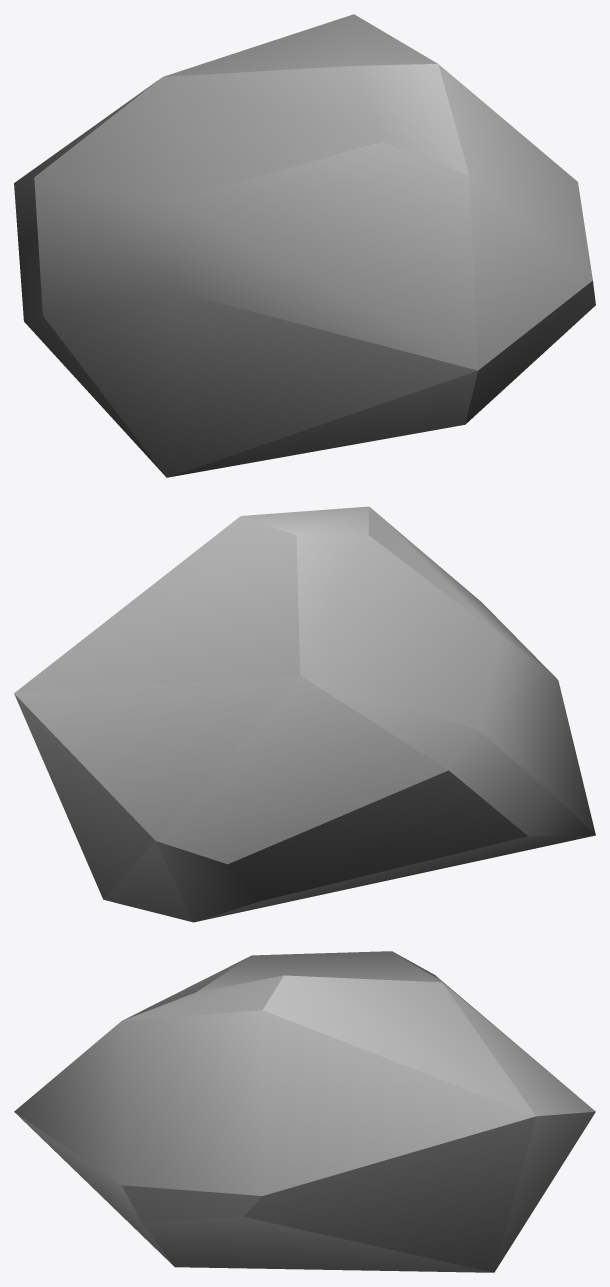
Rendered from Dino_Rock1.fbx.
3 views of the same model, one above another, from view 1: azimuth 30°, elevation 25°; view 2: azimuth 150°, elevation 25°; view 3: azimuth 270°, elevation 25° (orthographic). The views are drawn at different scales.
Parts seen in each view (by area): view 1: rock; view 2: rock; view 3: rock.
Boxes of the visible parts, bbox=[...] form: rock: bbox=[14, 14, 595, 477]; rock: bbox=[14, 506, 595, 922]; rock: bbox=[14, 951, 595, 1272].
Bounding box in the file's own units: 0.9182 × 0.5621 × 1.09.
